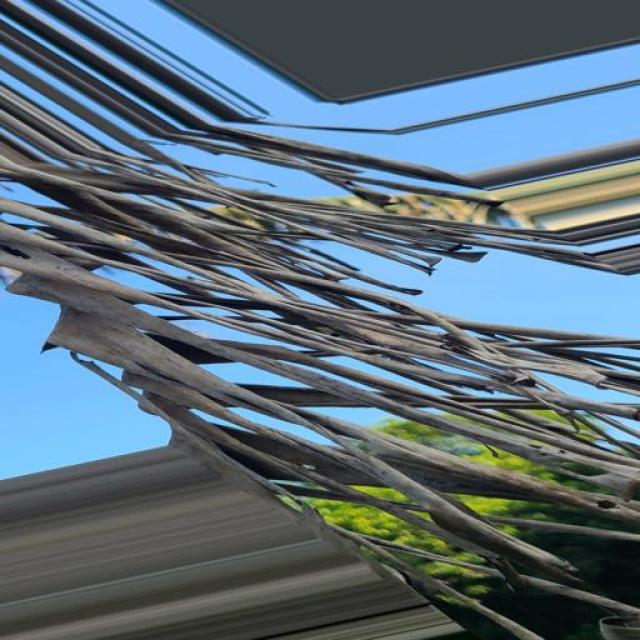Bract_mosaic_virus: (3, 56, 640, 640)
